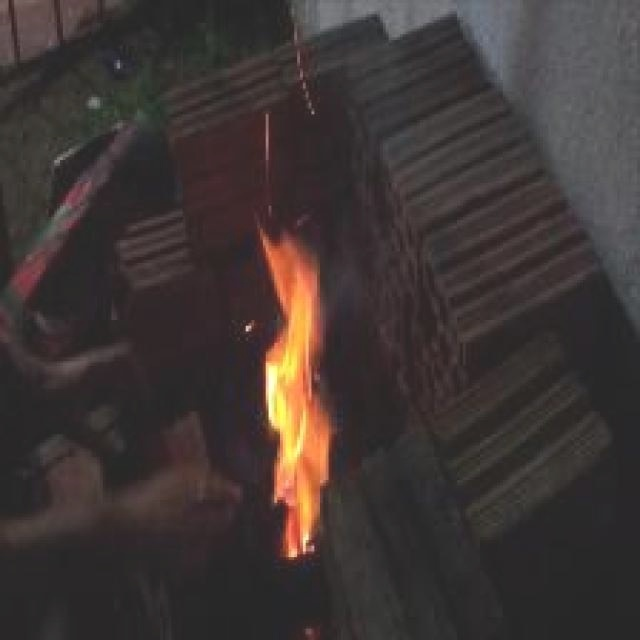fire: (198, 194, 369, 573)
